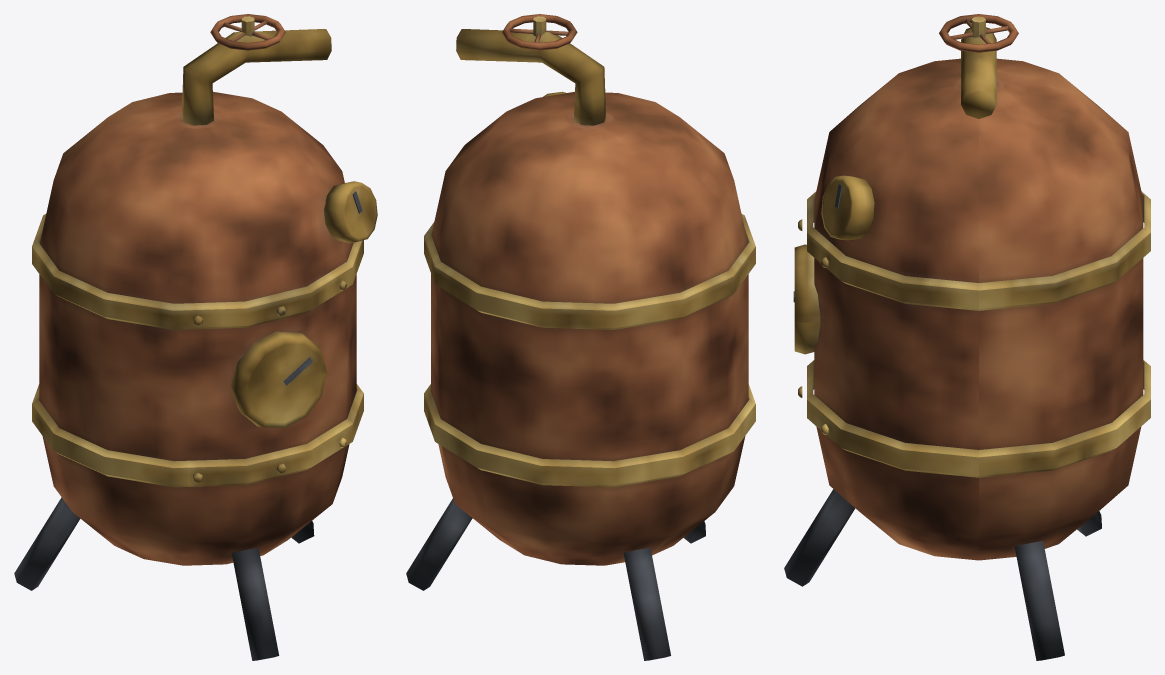
File: ClockLung_Prop_A.fbx
The picture shows the model from 3 angles, left to right: view 1: azimuth 30°, elevation 25°; view 2: azimuth 150°, elevation 25°; view 3: azimuth 270°, elevation 25°; orthographic projection. The views are drawn at different scales.
Parts seen in each view (by area): view 1: ClockLung_Prop_A; view 2: ClockLung_Prop_A; view 3: ClockLung_Prop_A.
Part boxes in pixels (x1,y1,x2,y2): ClockLung_Prop_A: [14, 14, 377, 660]; ClockLung_Prop_A: [406, 14, 755, 660]; ClockLung_Prop_A: [784, 14, 1150, 660].
Bounding box in the file's own units: 0.6483 × 1.19 × 0.6612.
